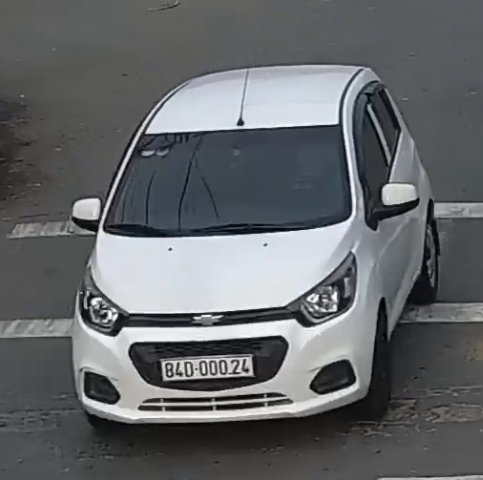vehicle plate: (154, 350, 261, 382)
